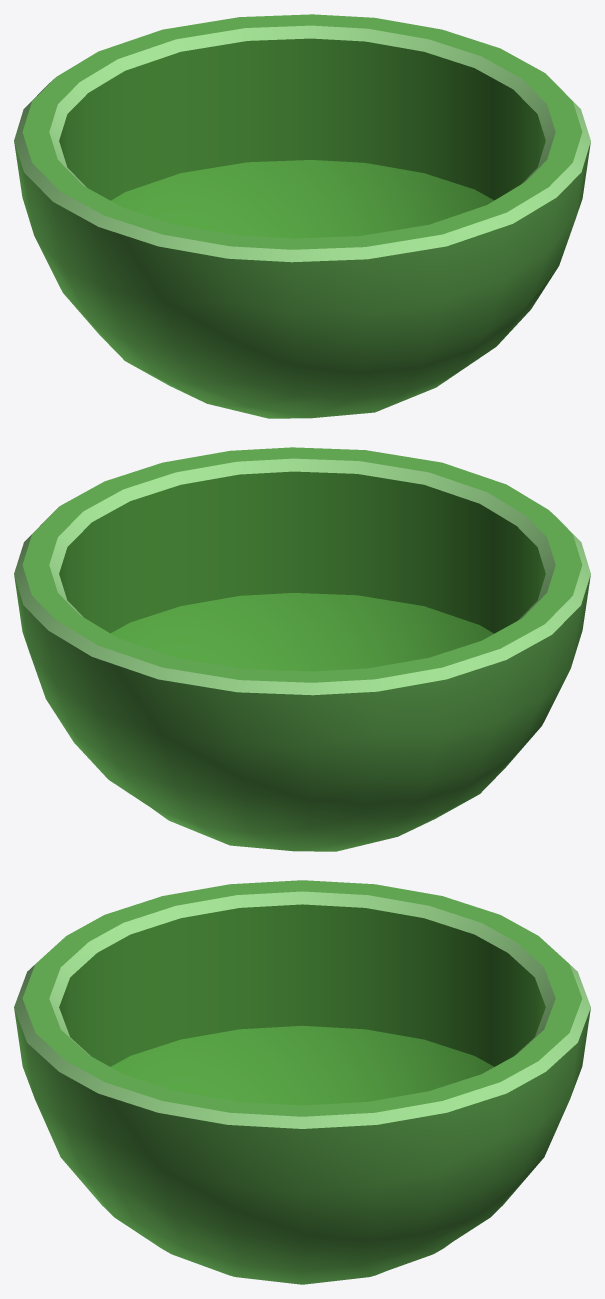
The model's file is RobotNest.fbx.
3 renders of one model, top to bottom at view 1: azimuth 30°, elevation 25°; view 2: azimuth 150°, elevation 25°; view 3: azimuth 270°, elevation 25°, orthographic.
Parts seen in each view (by area): view 1: RobotNest; view 2: RobotNest; view 3: RobotNest.
Boxes of the visible parts, <box> form: RobotNest: <box>14,14,590,418</box>; RobotNest: <box>14,447,590,851</box>; RobotNest: <box>14,880,590,1284</box>.
Size of the model in its own units: 123 by 61.86 by 123.
Materials: 1 (1 with a texture image).
